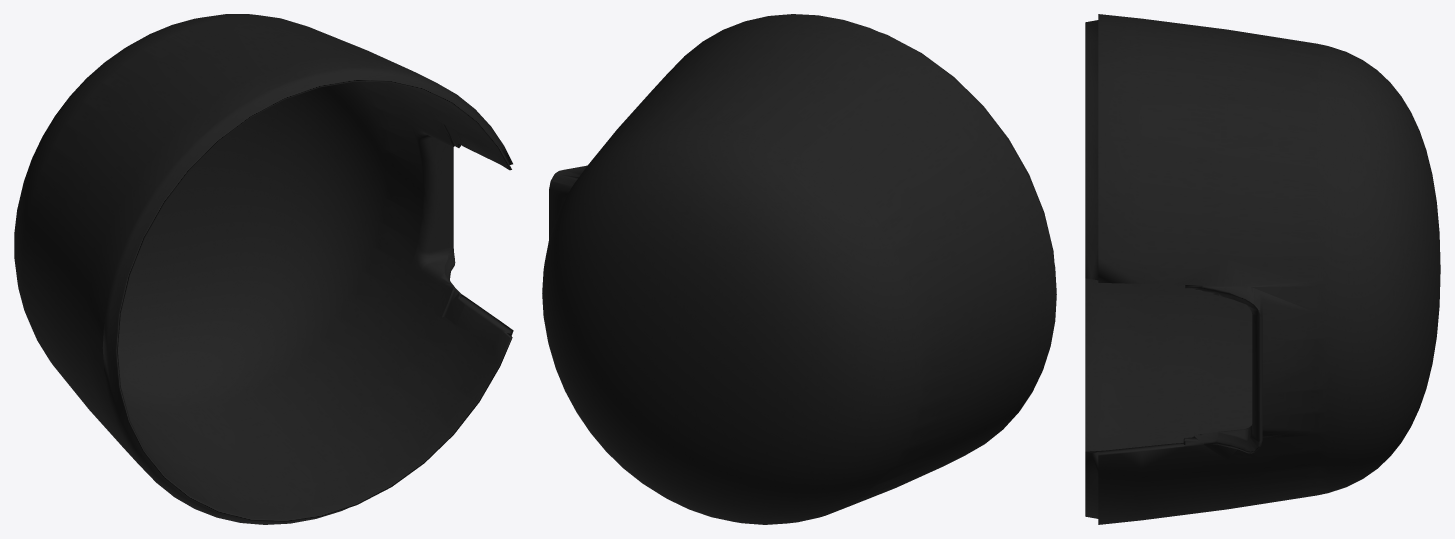
3 renders of one model, left to right at view 1: azimuth 30°, elevation 25°; view 2: azimuth 150°, elevation 25°; view 3: azimuth 270°, elevation 25°, orthographic. The views are drawn at different scales.
Size of the model in its own units: 0.1504 by 0.1494 by 0.1038.
Materials: 1 (1 with a texture image).
